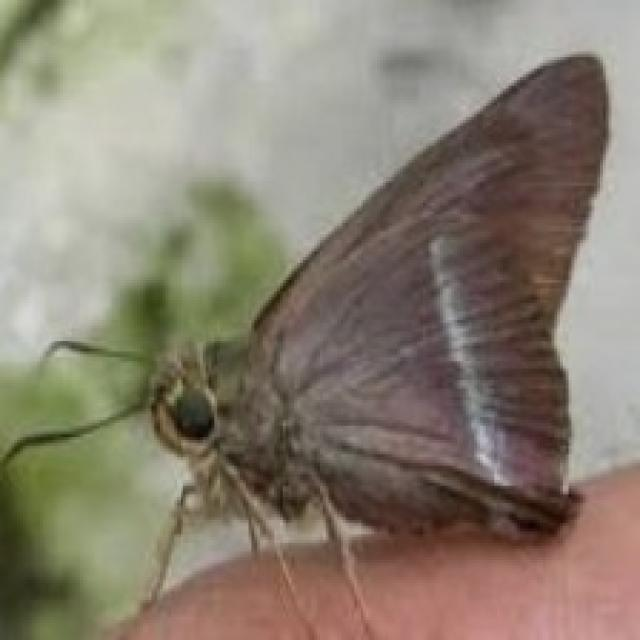butterfly: (0, 48, 611, 637)
